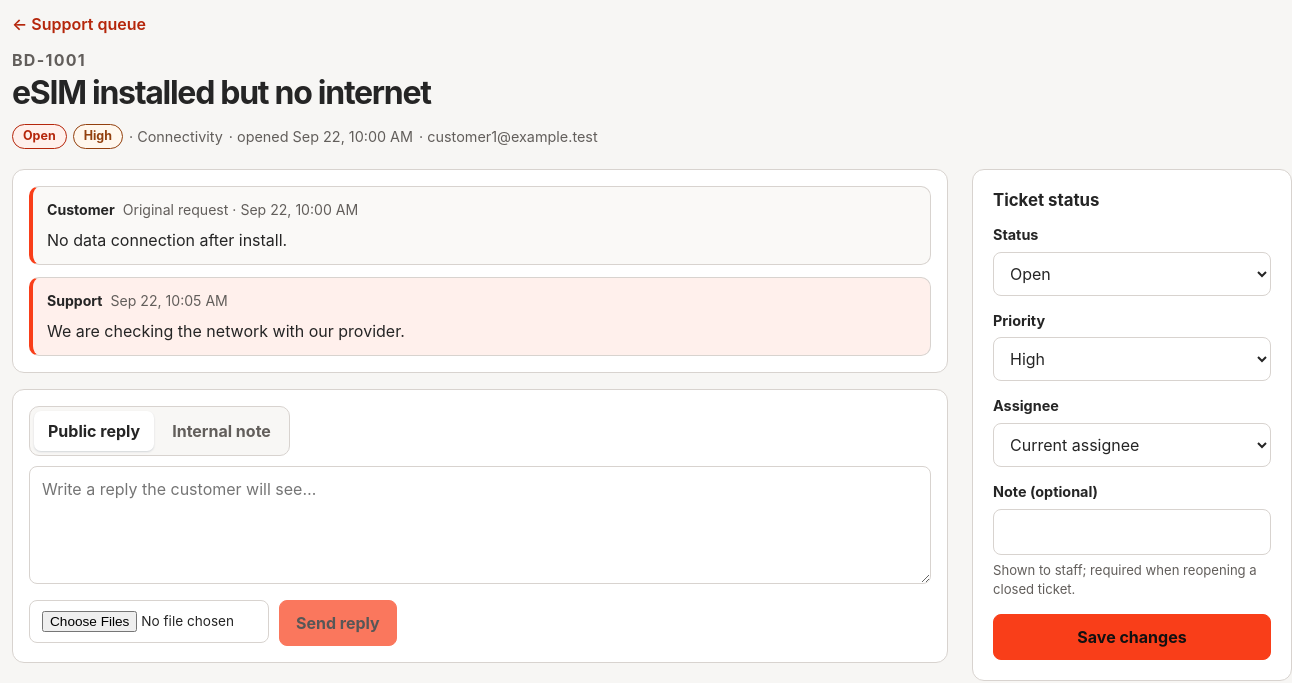
Test: TicketDetail for staff › surfaces a stale-edit conflict instead of overwriting metadata
The image size is (1292, 683).
Expected: the text "We are checking the network with our provider." is shown, [47,321,405,341]
Select "Resolved" in the dropdown labelled "Status" at x=1132, y=274, box [993,252,1271,296]
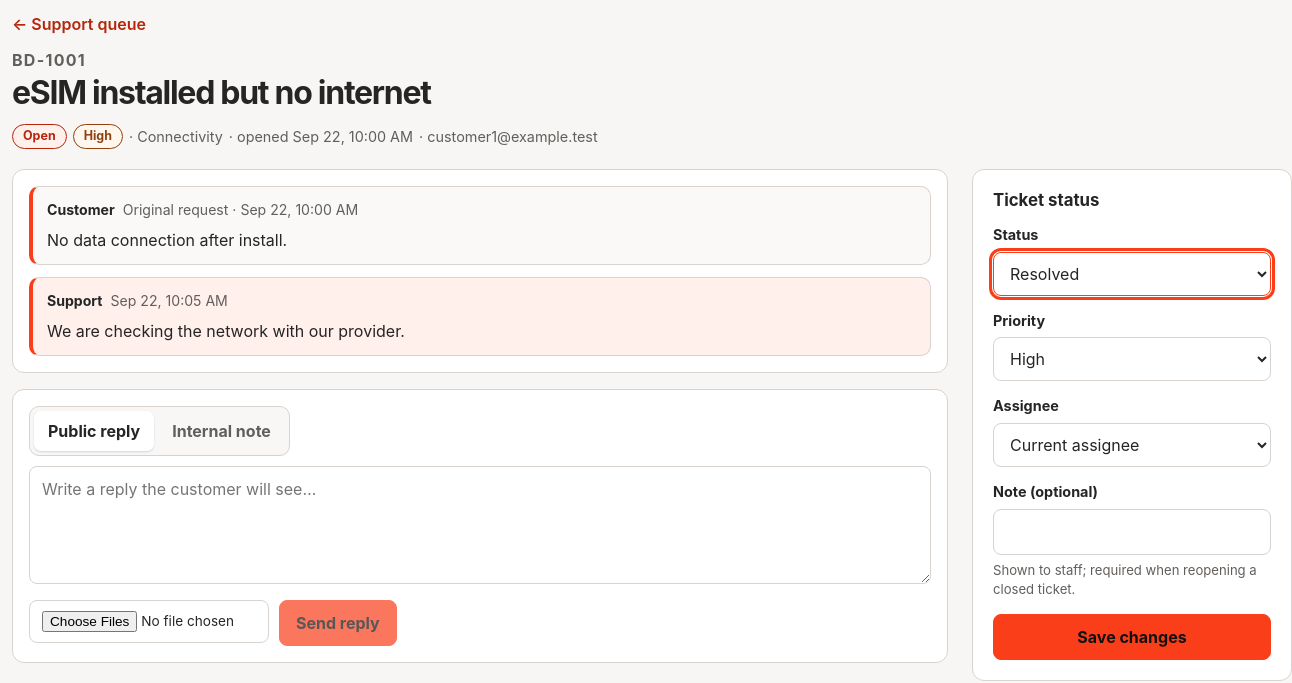
Click the button "Save changes" at x=1132, y=637, box [993,614,1271,660]
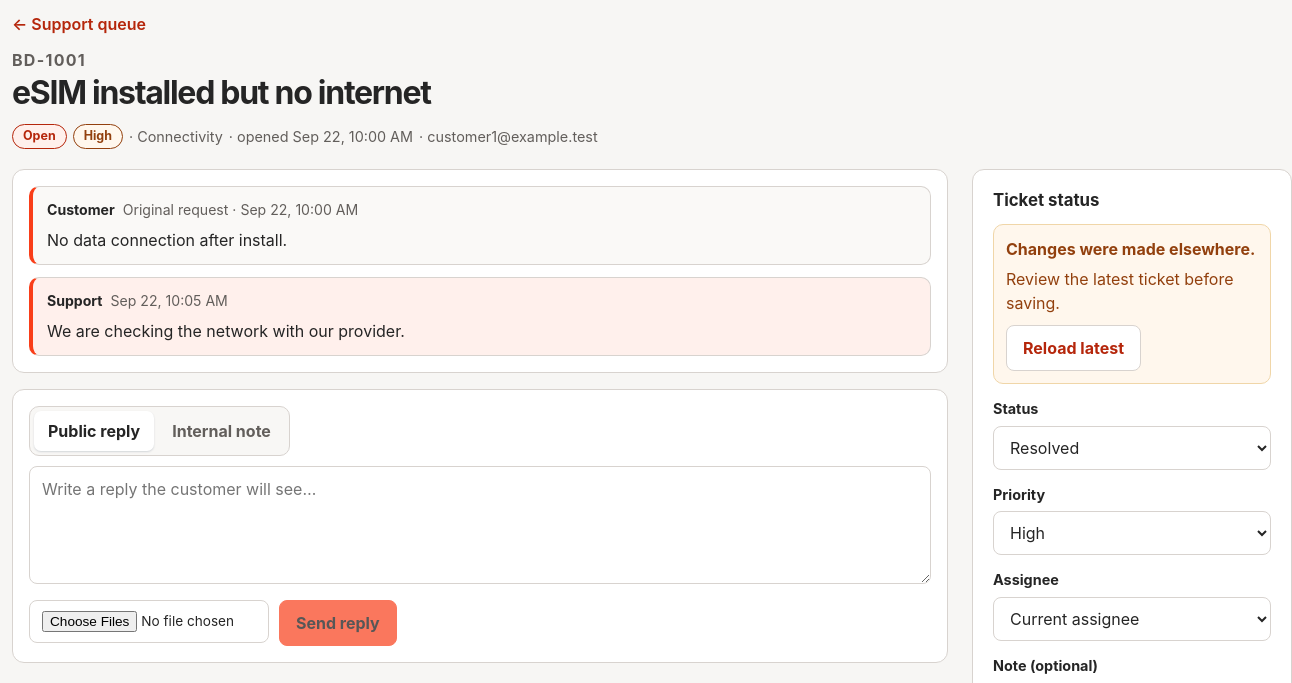
Now the text "Changes were made elsewhere." is shown, box [1006,239,1255,259]
